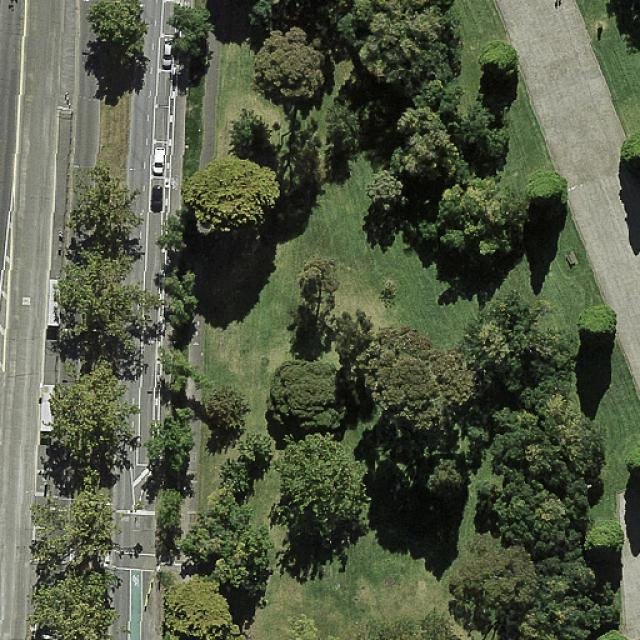Bike-Symbols: (170, 175, 179, 190), (132, 574, 140, 588)
